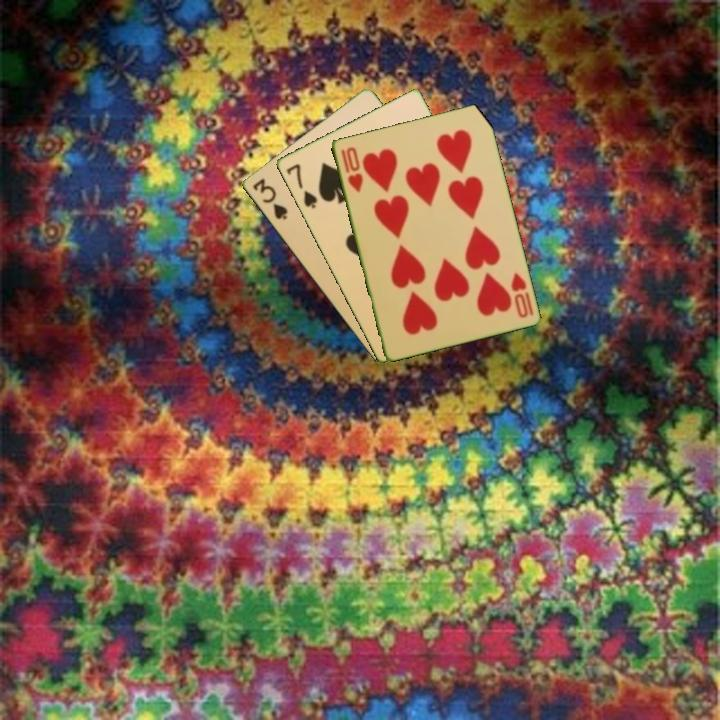10h: (337, 143, 366, 195), (507, 269, 536, 321)
3s: (249, 174, 290, 223)
7s: (282, 160, 320, 211)
